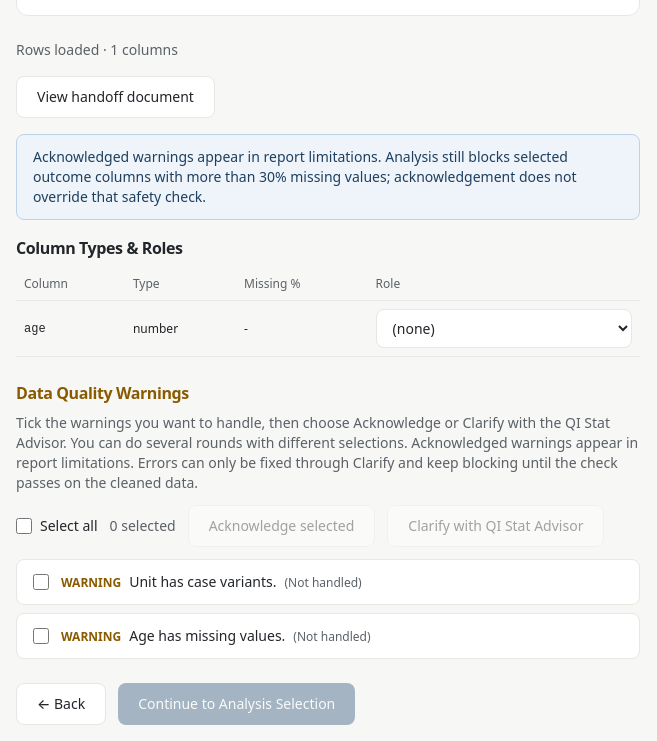
Test: DataReview › maps a reply to the selected warning and shows info replies as plain chat
The width and height of the screenshot is (657, 741).
(page scrolled)
Step 1. Click the checkbox labelled "Unit has case variants" → (41, 582), box [33,574,49,590]
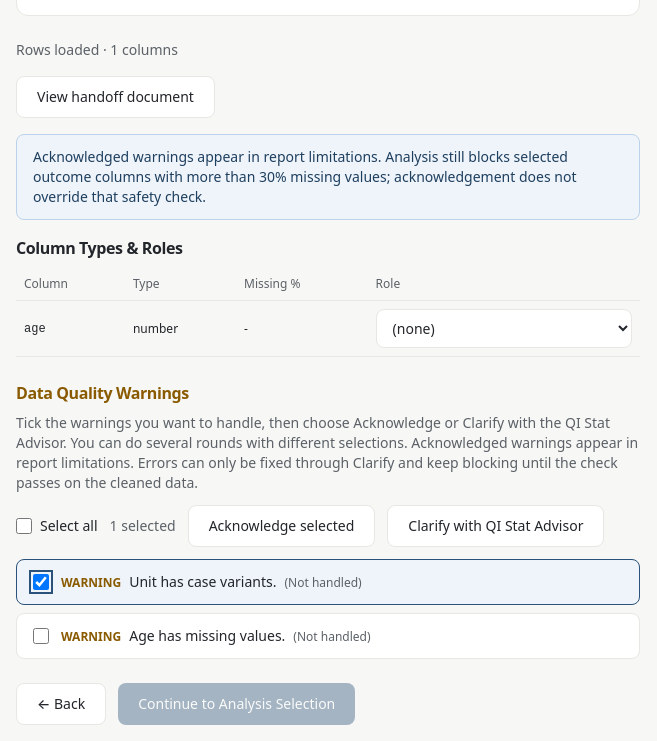
Step 2. Click the button "Clarify with QI Stat Advisor" → (496, 526), box [387,505,604,547]
(page scrolled)
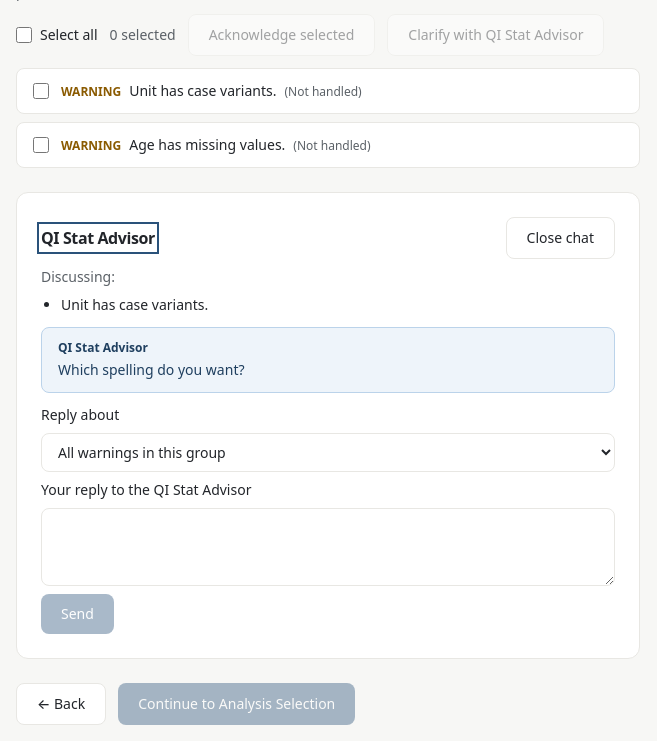
Expected: the text "Which spelling do you want?" is shown, [58,360,244,379]
Step 3. Select "Unit has case variants." in the dropdown labelled "Reply about" → (328, 452), box [41,433,615,472]
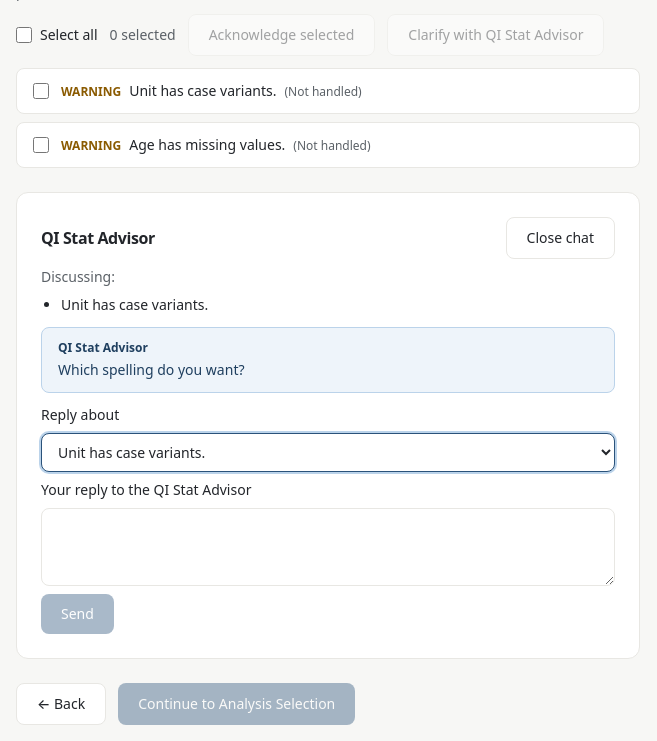
Step 4. Type "Use lowercase" into the text box labelled "Your reply to the QI Stat Advisor" → (328, 547), box [41,508,615,586]
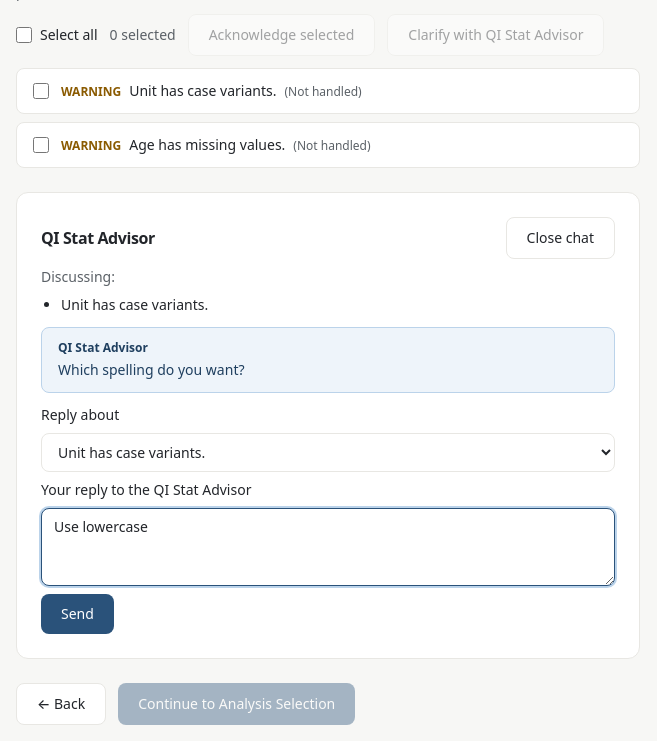
Step 5. Click the button "Send" → (77, 614), box [41,594,114,634]
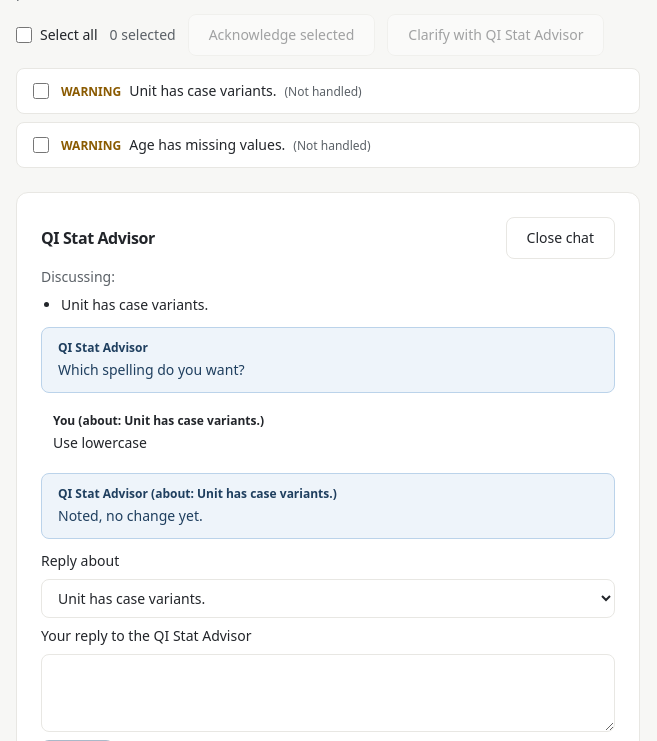
Expected: the text "Noted, no change yet." is shown, [58,506,203,525]
